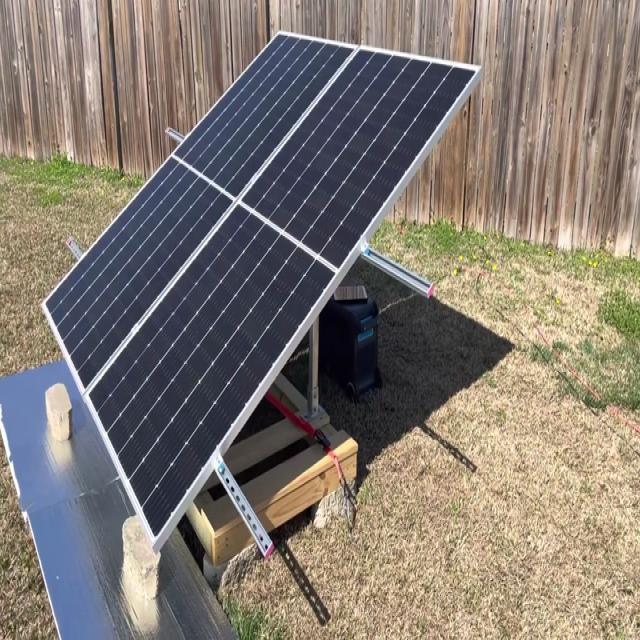Normal Solar Panel: (42, 36, 477, 544)
